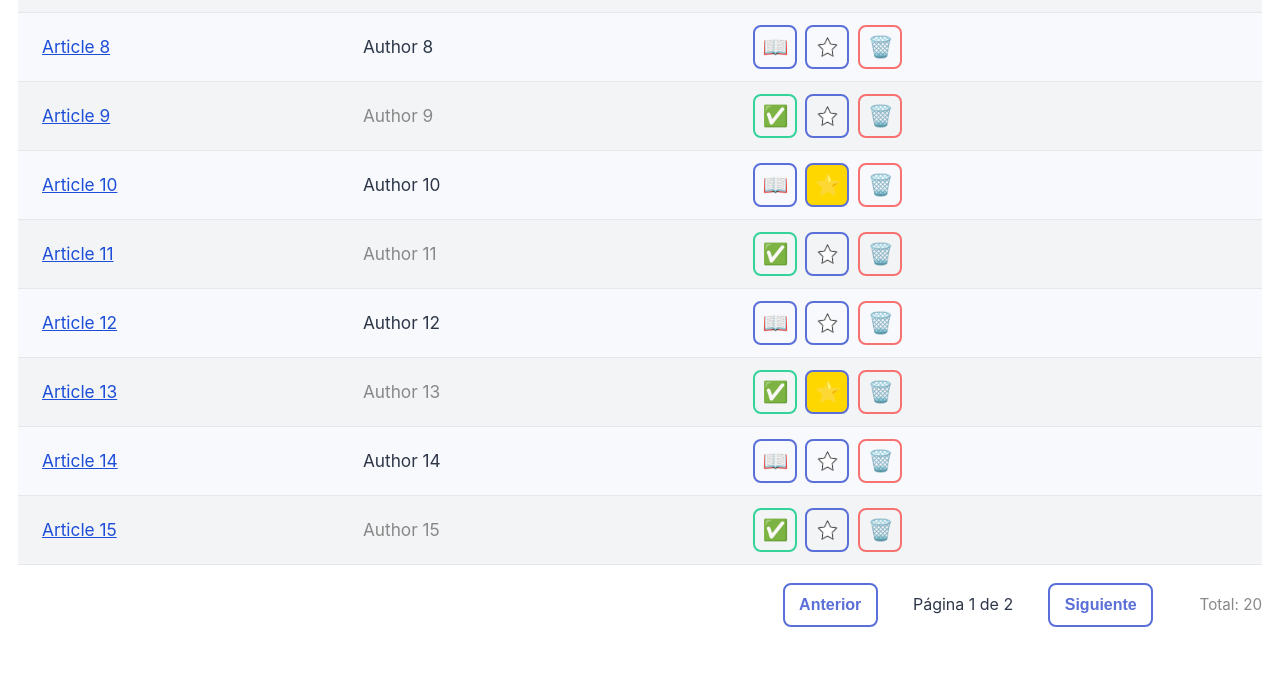
ArticleTable - Paginación › resetea a página 1 al cambiar filtro de lectura
(page scrolled)
// Ir a página 2
Click the button "Siguiente" at coordinates (1101, 605), box 1048,583 -> 1153,627
(page scrolled)
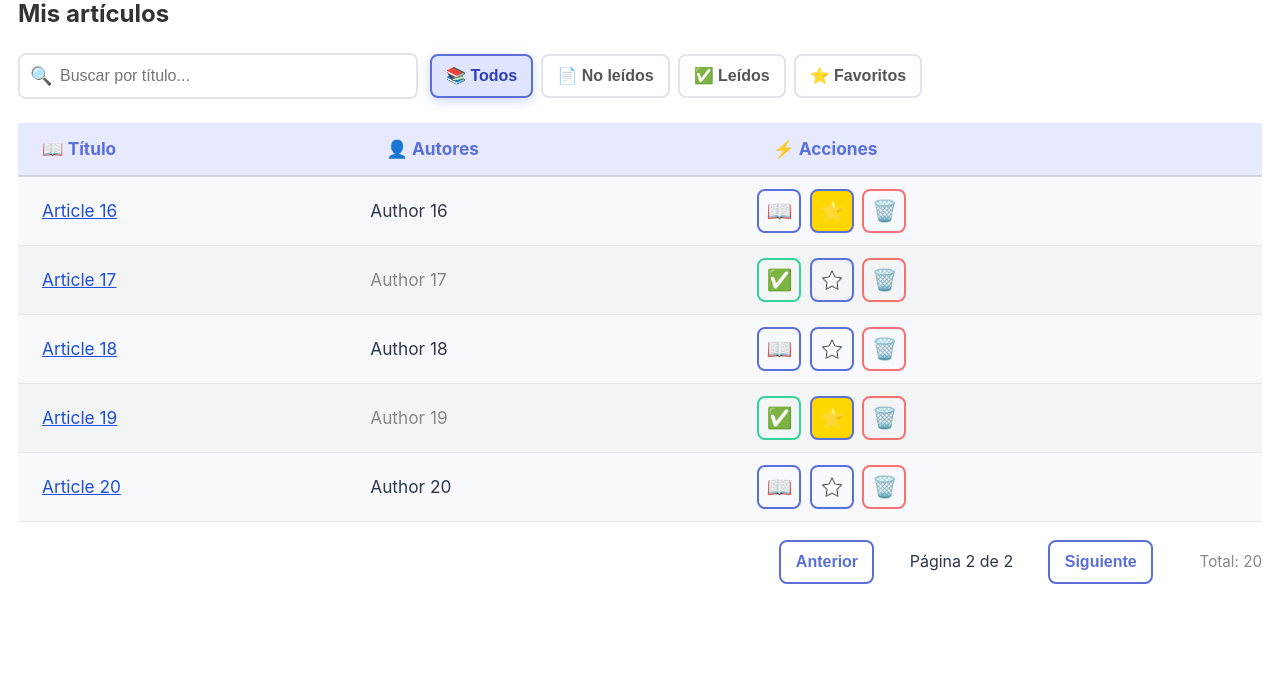
expect the link titled "Article 16" is shown: met, box 42,200 -> 117,221
// Activar filtro de leídos (debería resetear a página 1)
Click the button "✅ Leídos" at coordinates (732, 76), box 678,54 -> 786,98
(page scrolled)
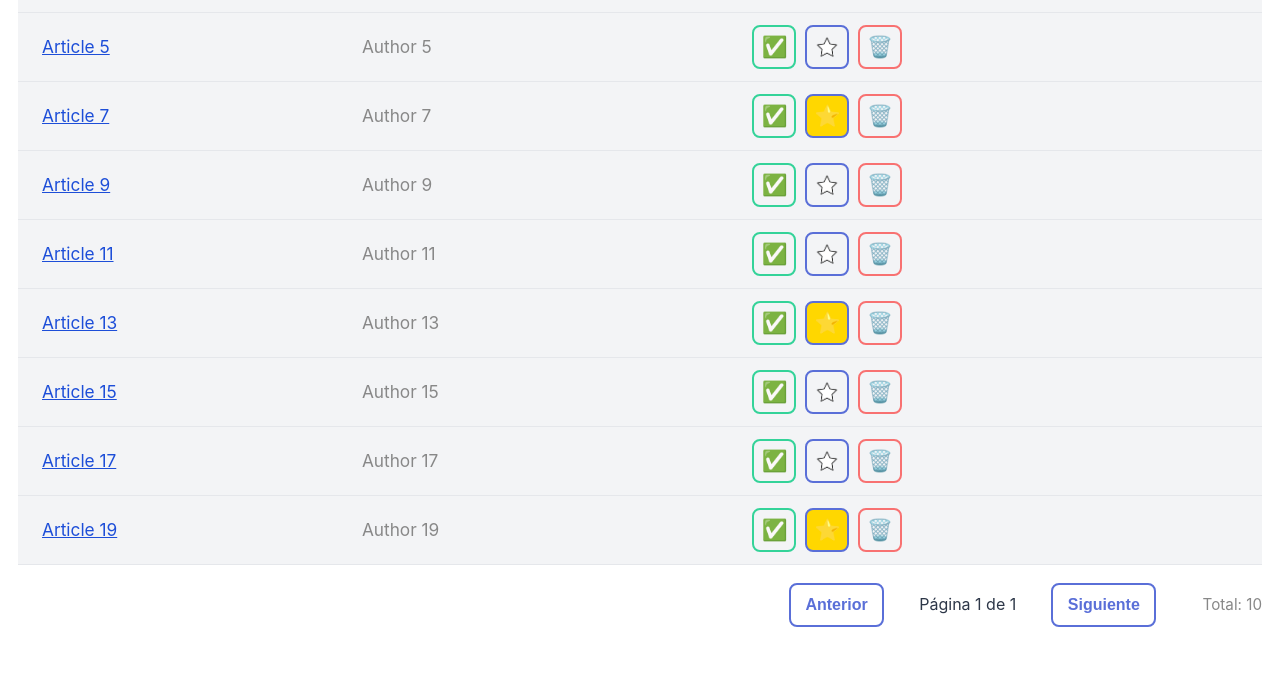
expect the text "Página 1 de 1" is shown: met, box 919,592 -> 1016,618
